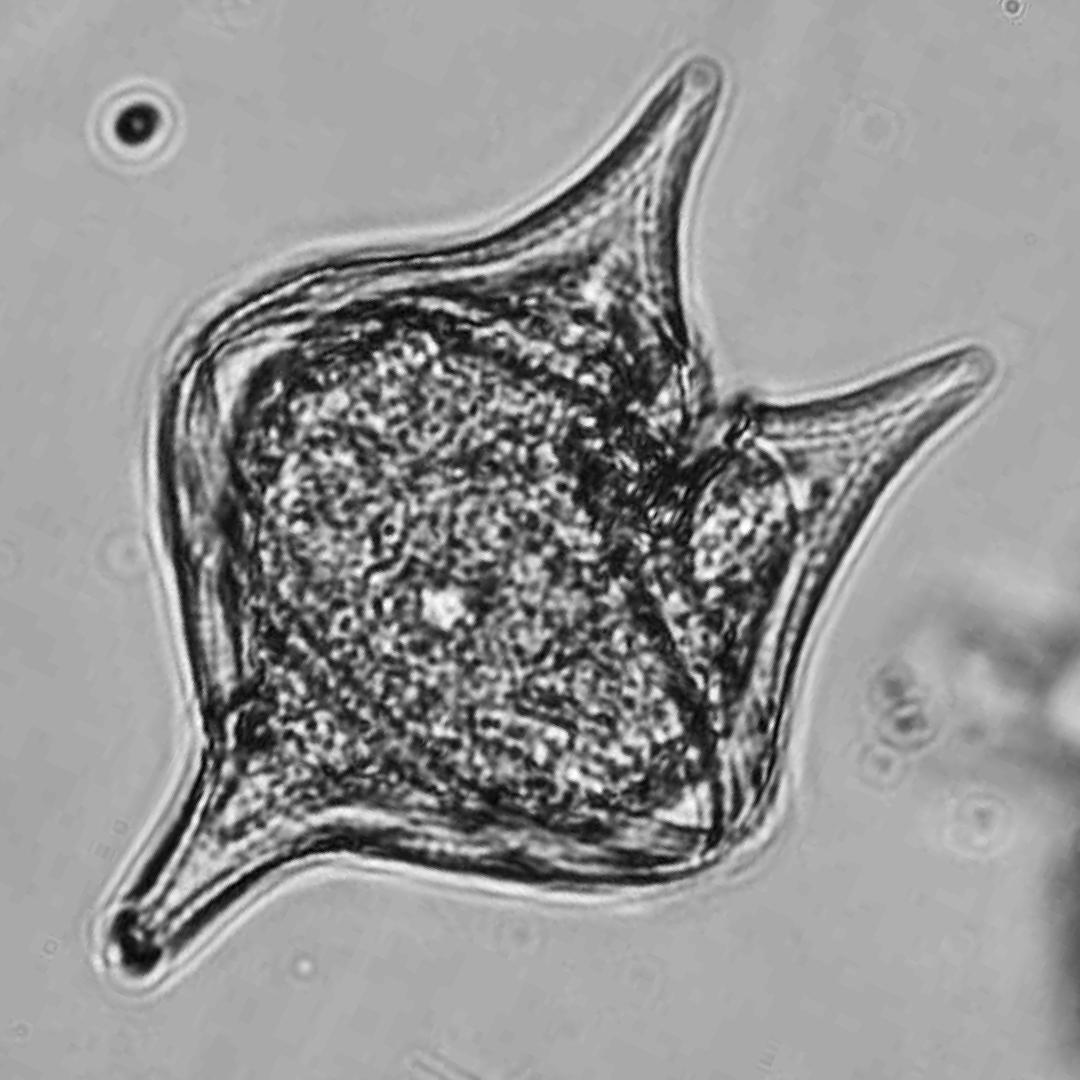protoperidinium_oceanicum: (103, 60, 994, 982)
